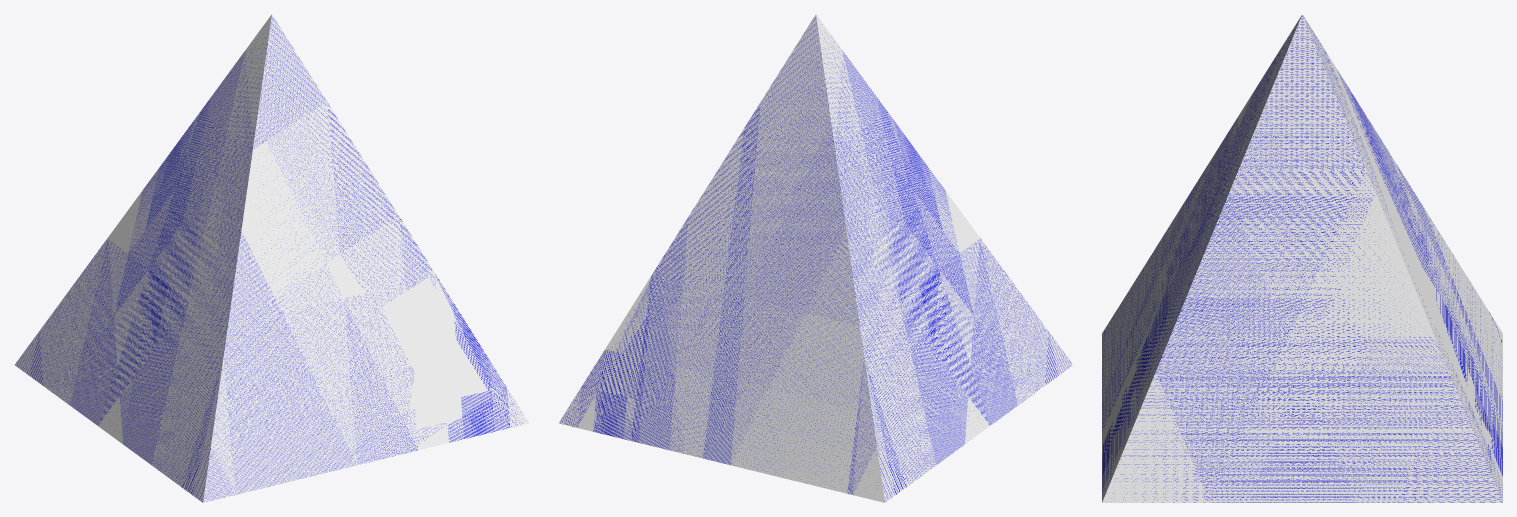
File: BluePyramid.dae
3 renders of one model, left to right at view 1: azimuth 30°, elevation 25°; view 2: azimuth 150°, elevation 25°; view 3: azimuth 270°, elevation 25°, orthographic. The views are drawn at different scales.
Parts seen in each view (by area): view 1: SketchUp; view 2: SketchUp; view 3: SketchUp.
Part boxes in pixels (x1=…): SketchUp: x1=15, y1=14, x2=528, y2=502; SketchUp: x1=559, y1=14, x2=1072, y2=502; SketchUp: x1=1102, y1=14, x2=1502, y2=502.
Bounding box in the file's own units: 18.88 × 18.88 × 21.
